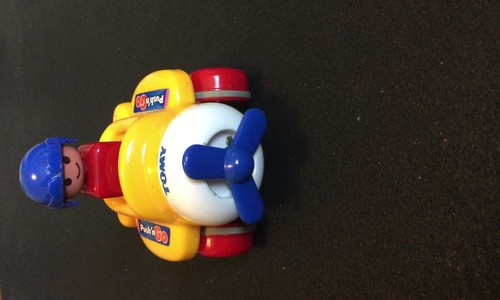toy: (14, 58, 273, 259)
